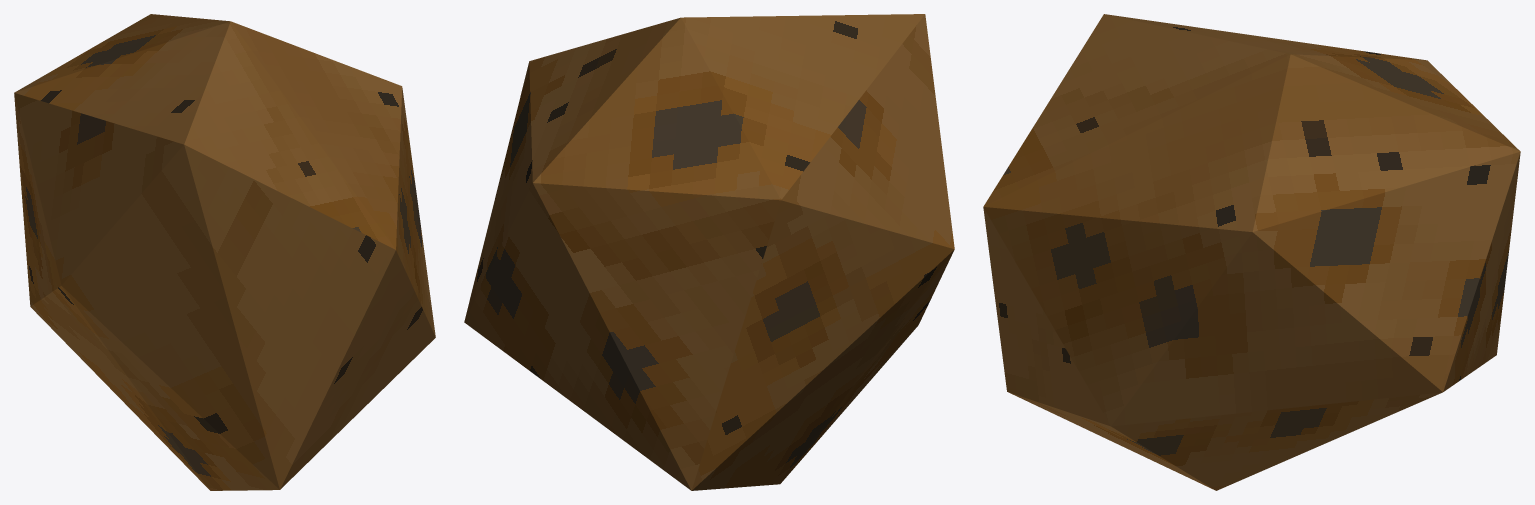
The model's file is Piedra 3.fbx.
3 views of the same model, side by side, from view 1: azimuth 30°, elevation 25°; view 2: azimuth 150°, elevation 25°; view 3: azimuth 270°, elevation 25° (orthographic). The views are drawn at different scales.
Parts seen in each view (by area): view 1: Icosphere; view 2: Icosphere; view 3: Icosphere.
Part boxes in pixels (x1=…): Icosphere: x1=14, y1=14, x2=435, y2=490; Icosphere: x1=464, y1=14, x2=954, y2=490; Icosphere: x1=983, y1=14, x2=1520, y2=490.
Size of the model in its own units: 275 by 314 by 328.
1 material, 1 textured.
